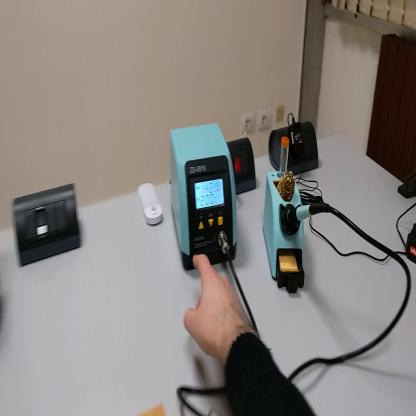electric screwdriver battery: (406, 223, 416, 261)
hand: (184, 252, 247, 361)
socket: (270, 116, 320, 174), (229, 137, 259, 197)
welder base: (264, 132, 308, 297)
welder probe tip: (286, 204, 332, 230)
welder station: (167, 120, 236, 275)
working area: (139, 398, 168, 415)
